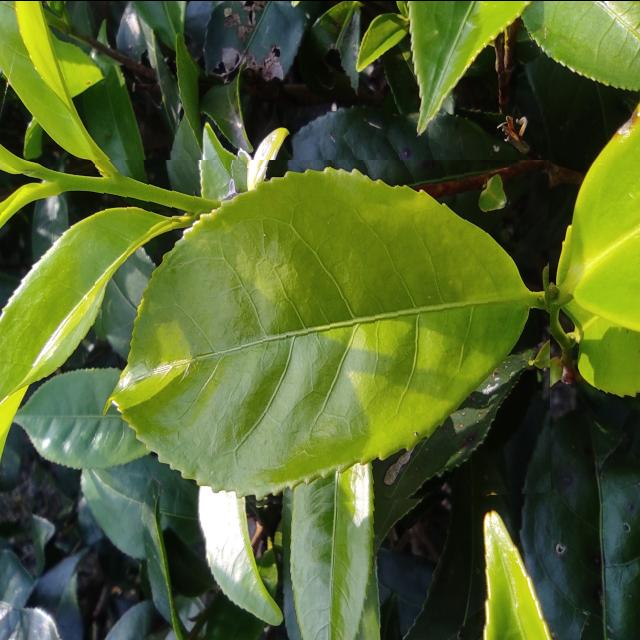Category B(2-4 days): (95, 159, 551, 512)
